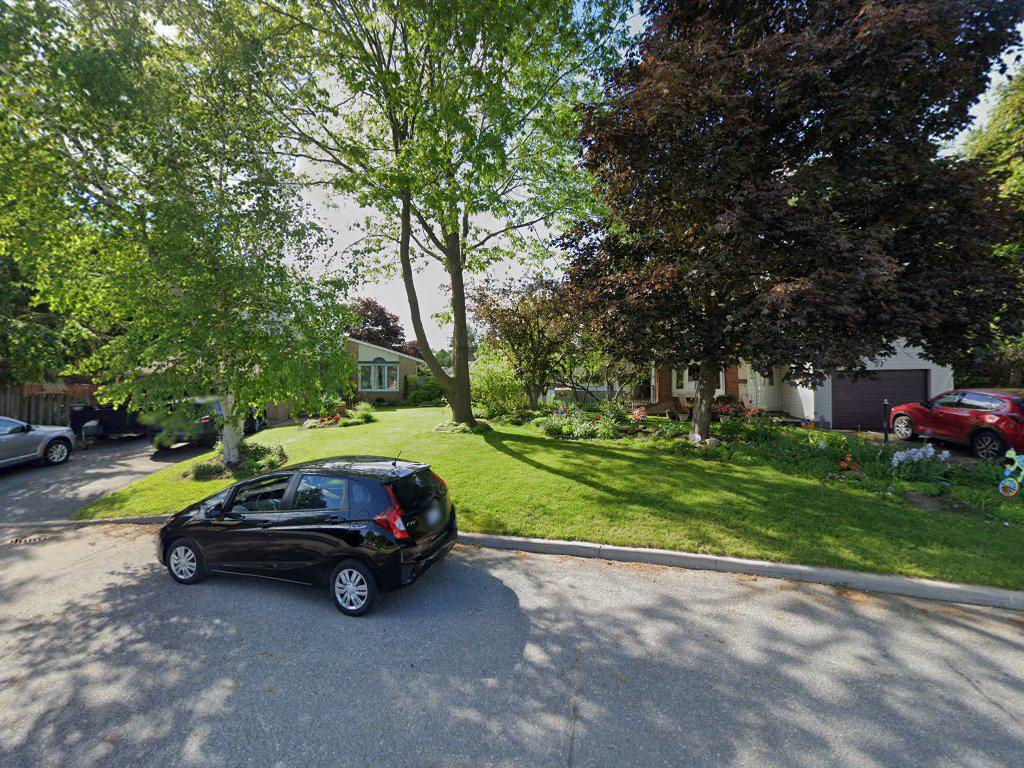trunk: (442, 248, 477, 437), (215, 380, 252, 468), (693, 350, 717, 457)
